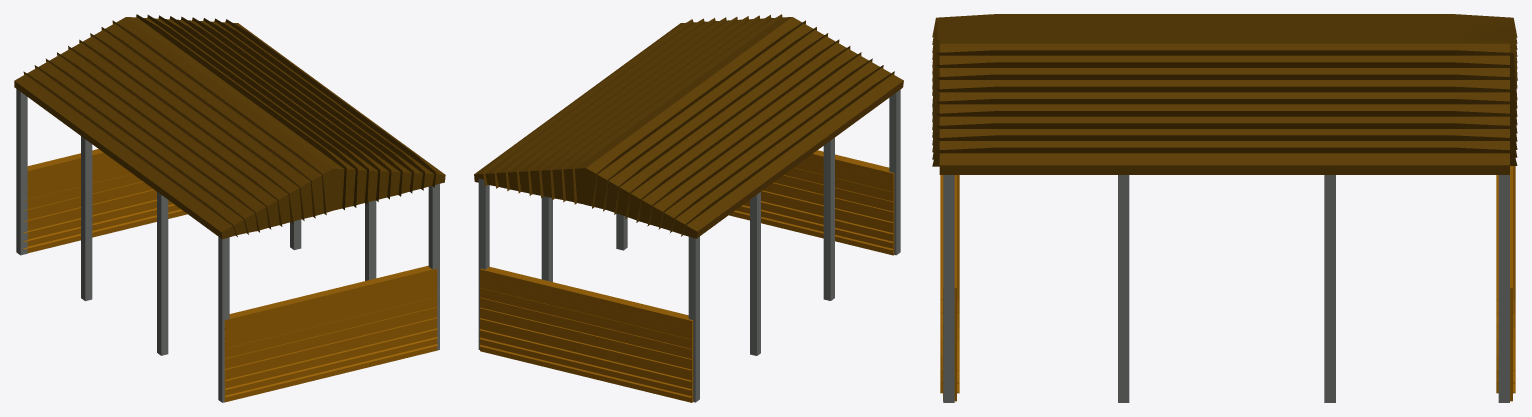
The model's file is cowshed.fbx.
The picture shows the model from 3 angles, left to right: view 1: azimuth 30°, elevation 25°; view 2: azimuth 150°, elevation 25°; view 3: azimuth 270°, elevation 25°; orthographic projection. The views are drawn at different scales.
Visible parts, largest first — view 1: pPlane3; view 2: pPlane3; view 3: pPlane3.
Part boxes in pixels (box(x1,y1,x2,y2)): pPlane3: box(14, 14, 445, 402); pPlane3: box(474, 14, 903, 402); pPlane3: box(932, 14, 1517, 402).
Bounding box in the file's own units: 282 × 252 × 463.
1 material, 1 textured.
